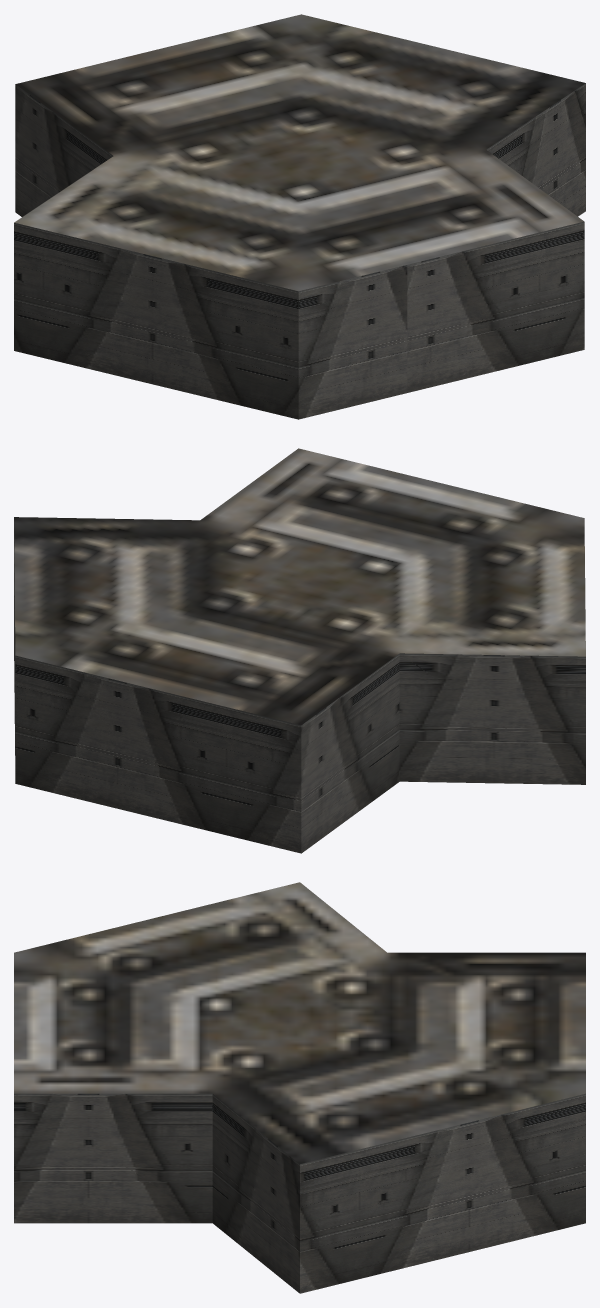
Rendered from fortress_heavy_27.glb.
3 renders of one model, top to bottom at view 1: azimuth 30°, elevation 25°; view 2: azimuth 150°, elevation 25°; view 3: azimuth 270°, elevation 25°, orthographic.
Parts seen in each view (by area): view 1: buildings/saxarba/fortress_heavy/fortress_heavy_27; view 2: buildings/saxarba/fortress_heavy/fortress_heavy_27; view 3: buildings/saxarba/fortress_heavy/fortress_heavy_27.
Part boxes in pixels (left/top/right/bottom): buildings/saxarba/fortress_heavy/fortress_heavy_27: left=14, top=14, right=585, bottom=419; buildings/saxarba/fortress_heavy/fortress_heavy_27: left=14, top=448, right=585, bottom=853; buildings/saxarba/fortress_heavy/fortress_heavy_27: left=14, top=882, right=585, bottom=1293.
Bounding box in the file's own units: 84 × 18 × 72.
